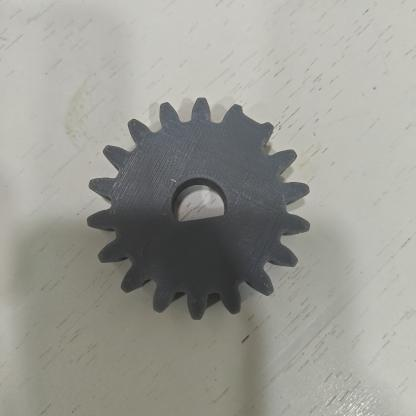defect: (152, 196, 232, 234), (219, 98, 280, 147)
gear: (87, 98, 310, 319)
